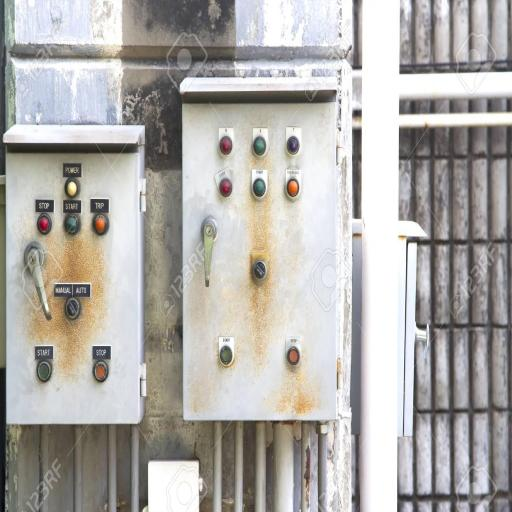segmentation: (17, 229, 107, 393), (246, 129, 273, 358), (268, 373, 324, 420)
